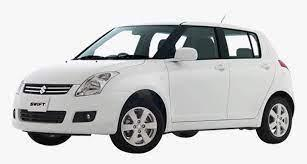Hatchback: (10, 20, 298, 153)
